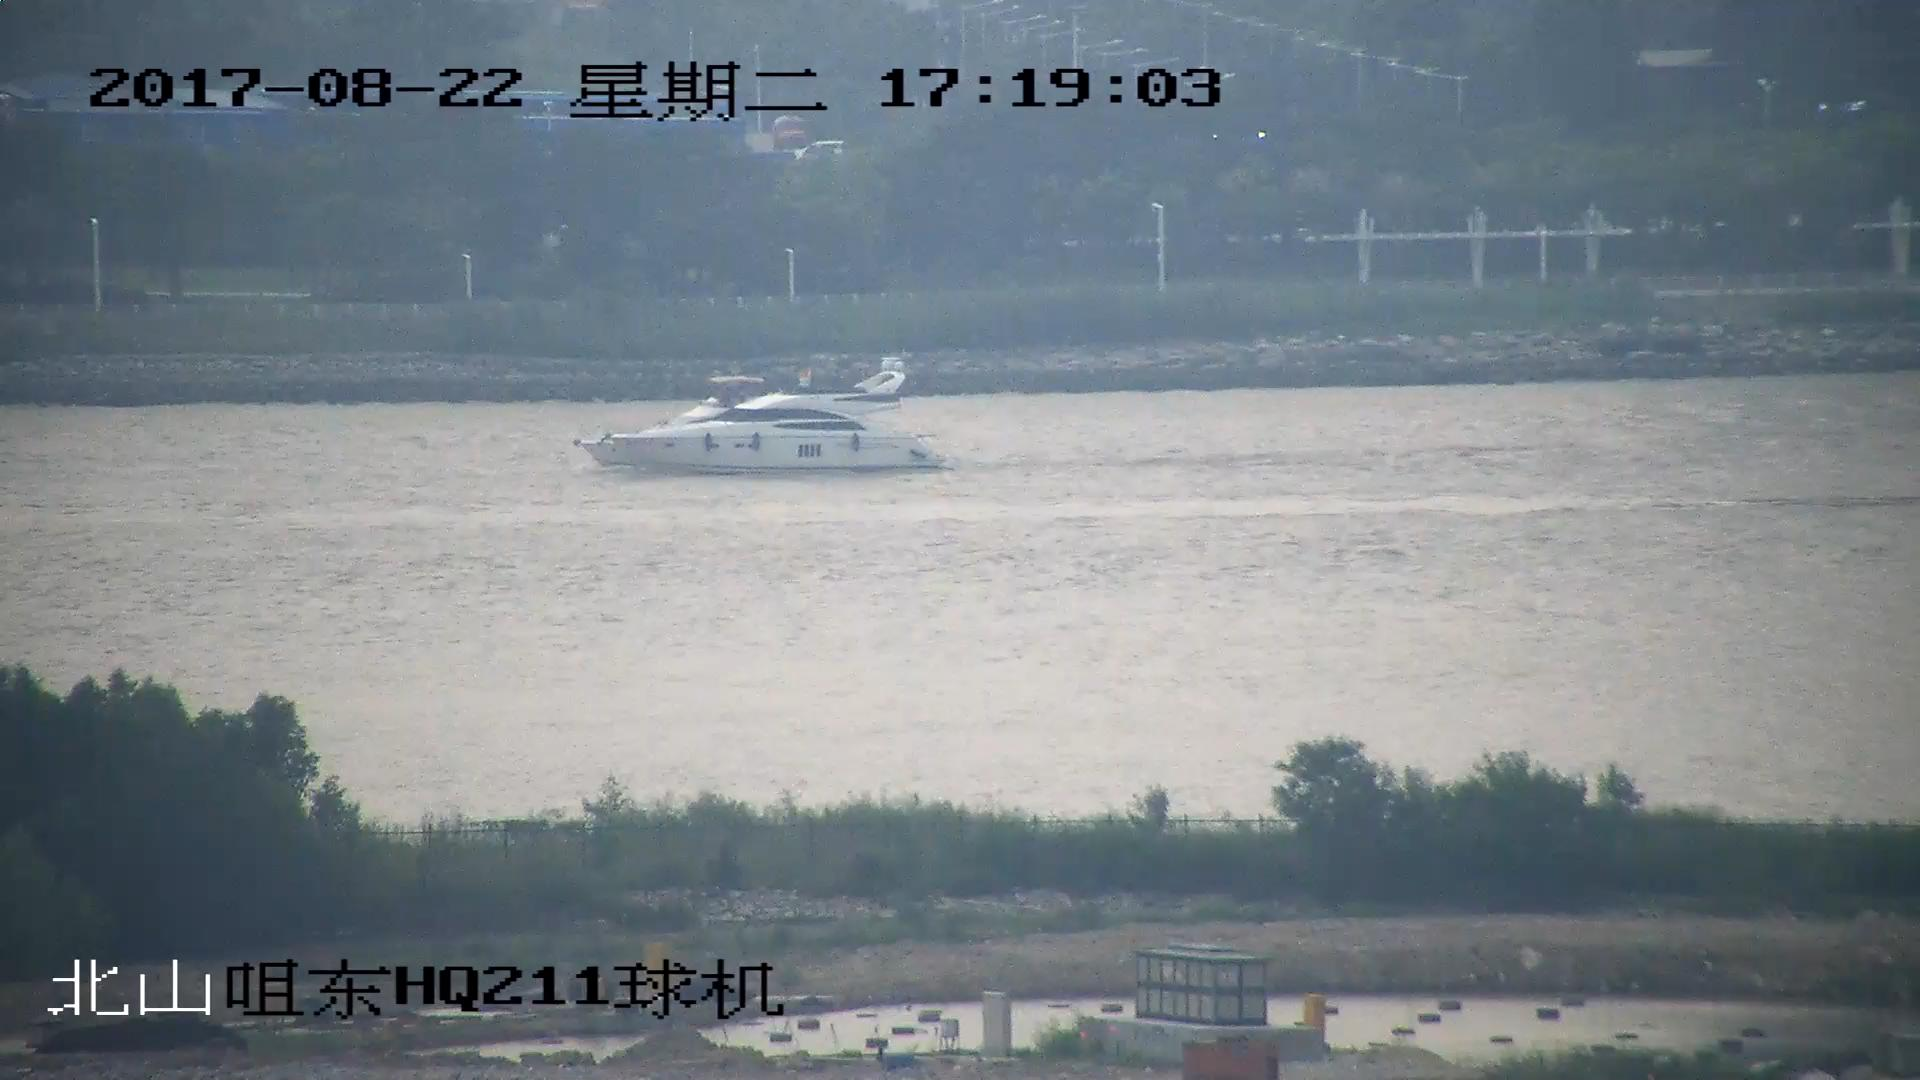passenger ship: (574, 353, 946, 473)
